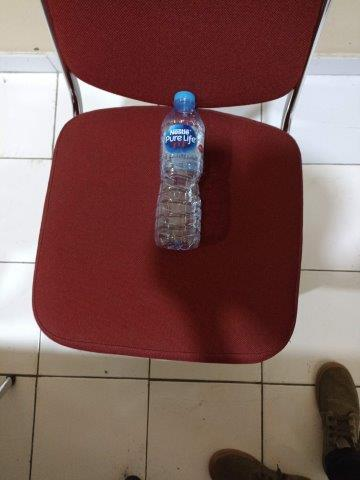botolplastik: (155, 89, 205, 249)
